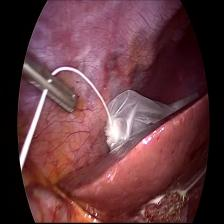Specimen Bag: (94, 86, 203, 153)
